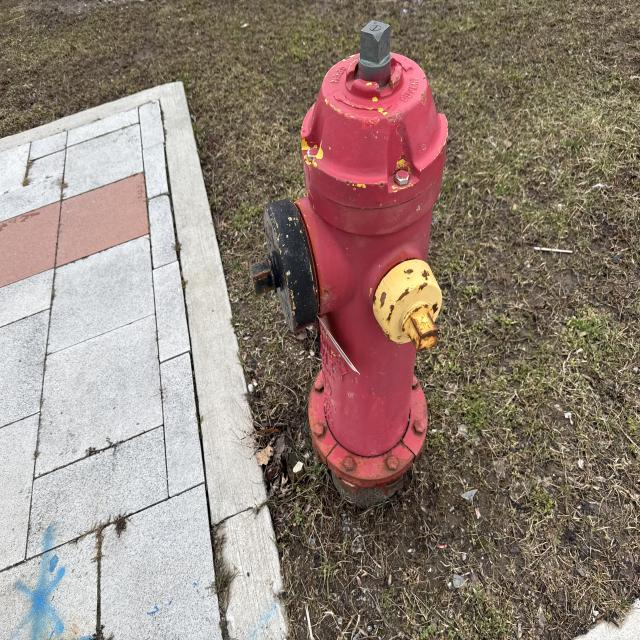Fire hydrant: (249, 18, 450, 506)
